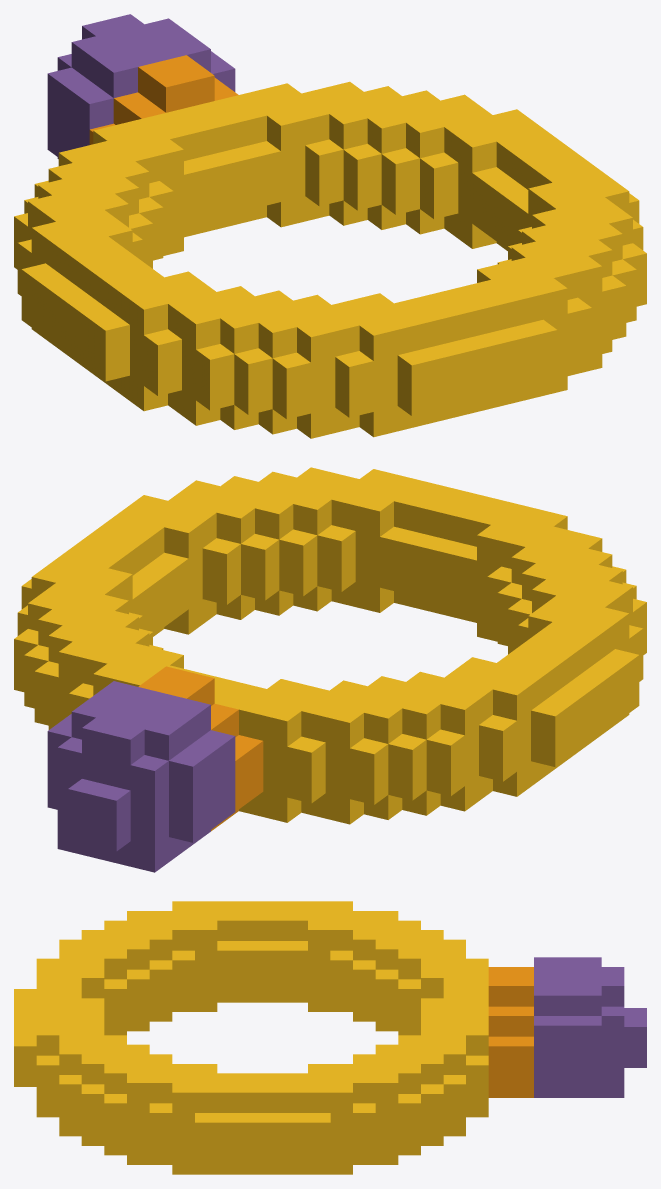
Rendered from item_RING_AMETHYST.glb.
3 views of the same model, one above another, from view 1: azimuth 30°, elevation 25°; view 2: azimuth 150°, elevation 25°; view 3: azimuth 270°, elevation 25° (orthographic). The views are drawn at different scales.
Parts seen in each view (by area): view 1: item_RING_AMETHYST; view 2: item_RING_AMETHYST; view 3: item_RING_AMETHYST.
Part boxes in pixels (left/top/right/bottom): item_RING_AMETHYST: left=14, top=14, right=646, bottom=438; item_RING_AMETHYST: left=14, top=467, right=646, bottom=872; item_RING_AMETHYST: left=14, top=901, right=646, bottom=1174.
Size of the model in its own units: 0.25 by 0.0568 by 0.3182.
Materials: 1 (1 with a texture image).
